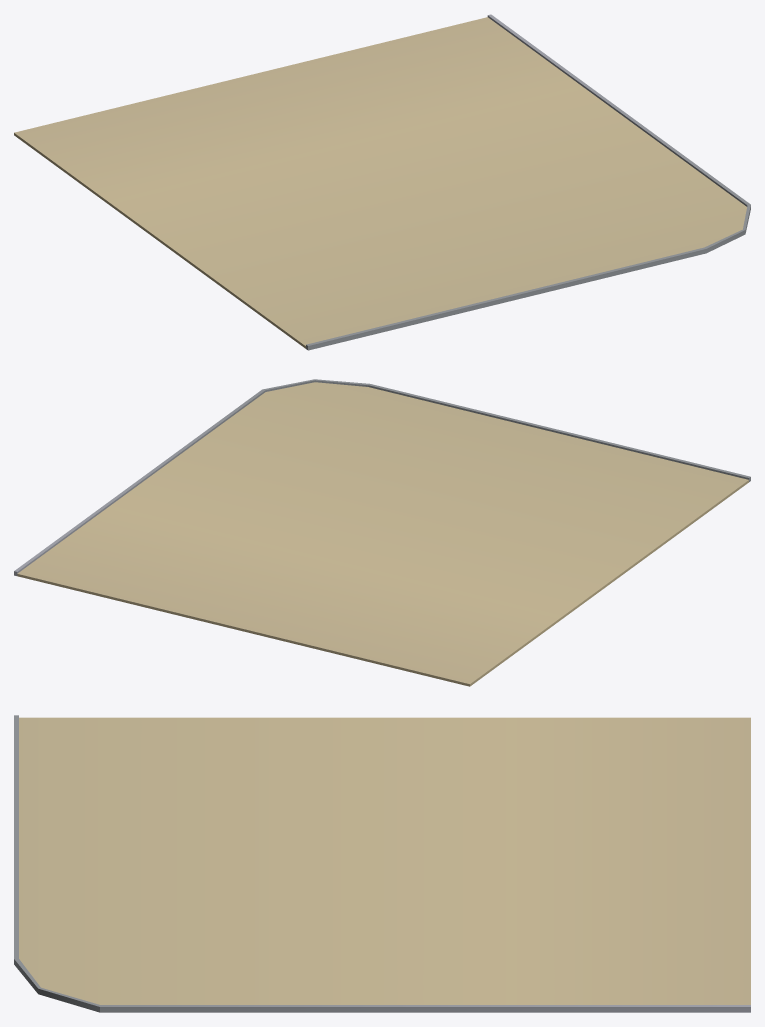
File: sidewalk_41.fbx
The picture shows the model from 3 angles, top to bottom: view 1: azimuth 30°, elevation 25°; view 2: azimuth 150°, elevation 25°; view 3: azimuth 270°, elevation 25°; orthographic projection. The views are drawn at different scales.
Visible parts, largest first — view 1: sidewalk_40; view 2: sidewalk_40; view 3: sidewalk_40.
Boxes of the visible parts, x1,y1,x2,y2 form: sidewalk_40: (14,14,750,350); sidewalk_40: (14,379,750,686); sidewalk_40: (14,715,750,1012).
Bounding box in the file's own units: 2.63 × 0.0237 × 2.81.
1 material, 1 textured.
